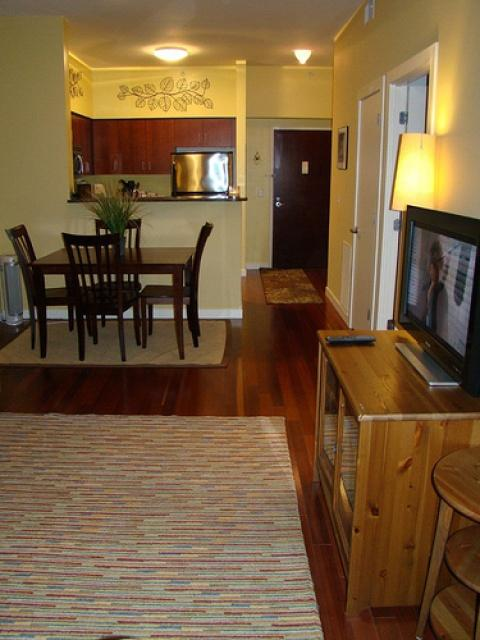AIO PC-Monitor-TV: (393, 204, 479, 391)
Kursi: (60, 232, 141, 363), (140, 222, 212, 349)
Meja: (34, 245, 194, 296)
